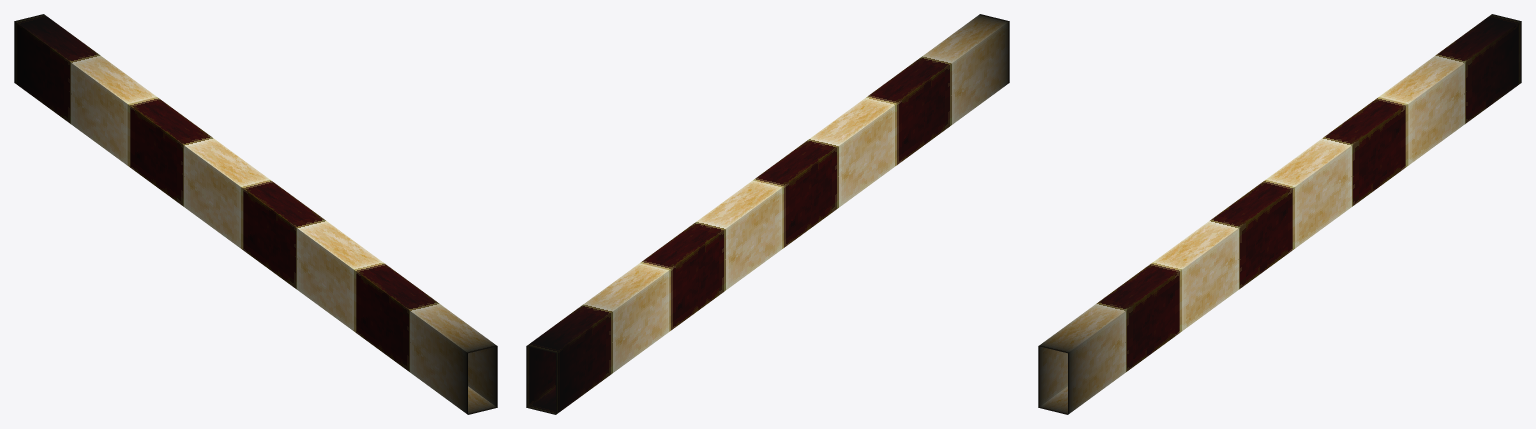
Rendered from Grindrail.gltf.
The picture shows the model from 3 angles, left to right: view 1: azimuth 30°, elevation 25°; view 2: azimuth 150°, elevation 25°; view 3: azimuth 330°, elevation 25°; orthographic projection.
Parts seen in each view (by area): view 1: GrindrailMesh; view 2: GrindrailMesh; view 3: GrindrailMesh.
Boxes of the visible parts, x1,y1,x2,y2 form: GrindrailMesh: [14, 14, 497, 414]; GrindrailMesh: [526, 14, 1009, 414]; GrindrailMesh: [1038, 14, 1521, 414].
Size of the model in its own units: 0.15 by 0.3 by 4.
Materials: 1 (1 with a texture image).
